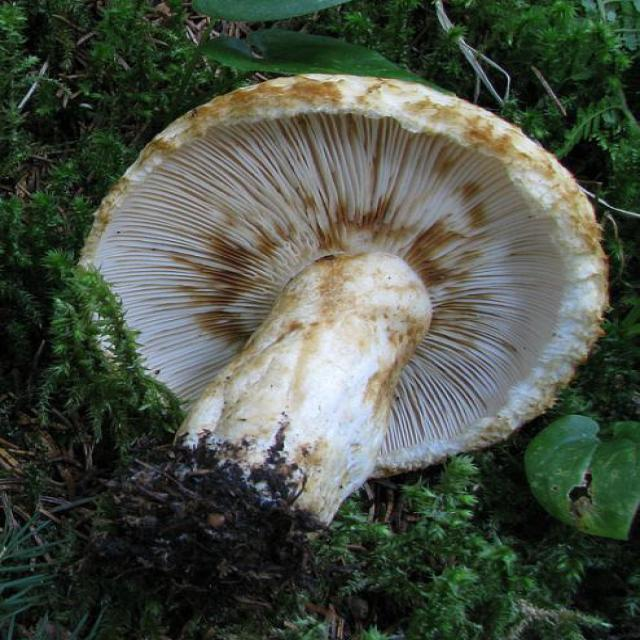Armillaria mellea: (75, 74, 609, 599)
